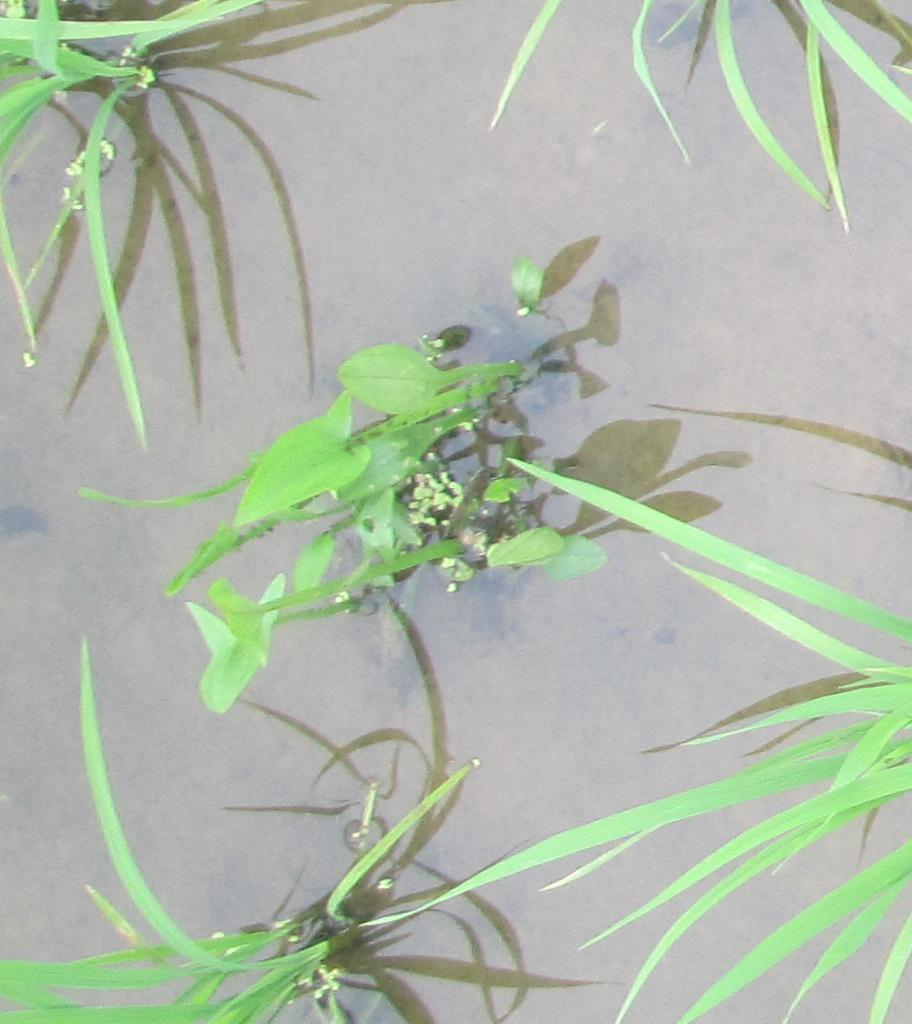Weed: (225, 342, 561, 583)
